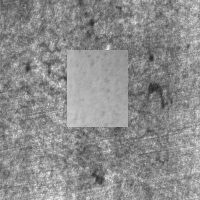crazing: (3, 42, 72, 93), (90, 117, 164, 159)
pitted_surface: (67, 50, 128, 127)
